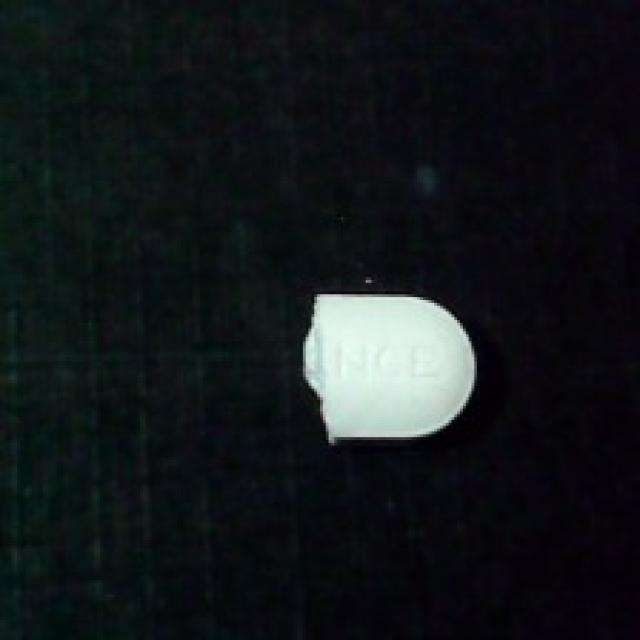defected: (291, 274, 489, 451)
